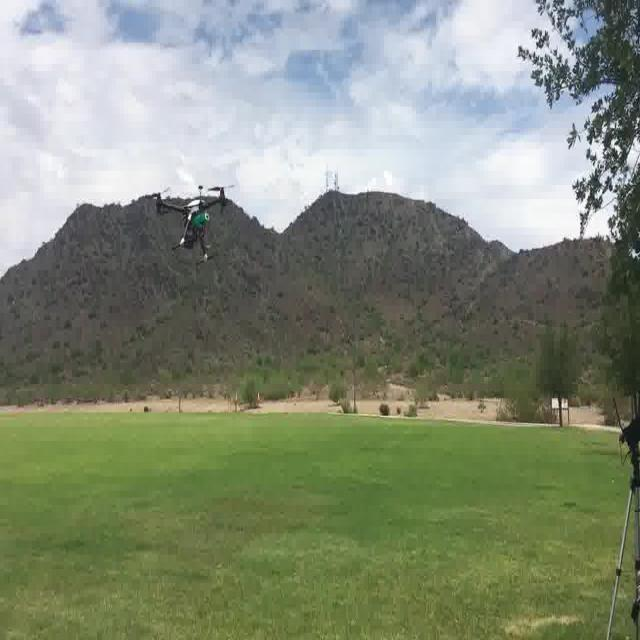Drone_FW: (147, 183, 236, 262)
